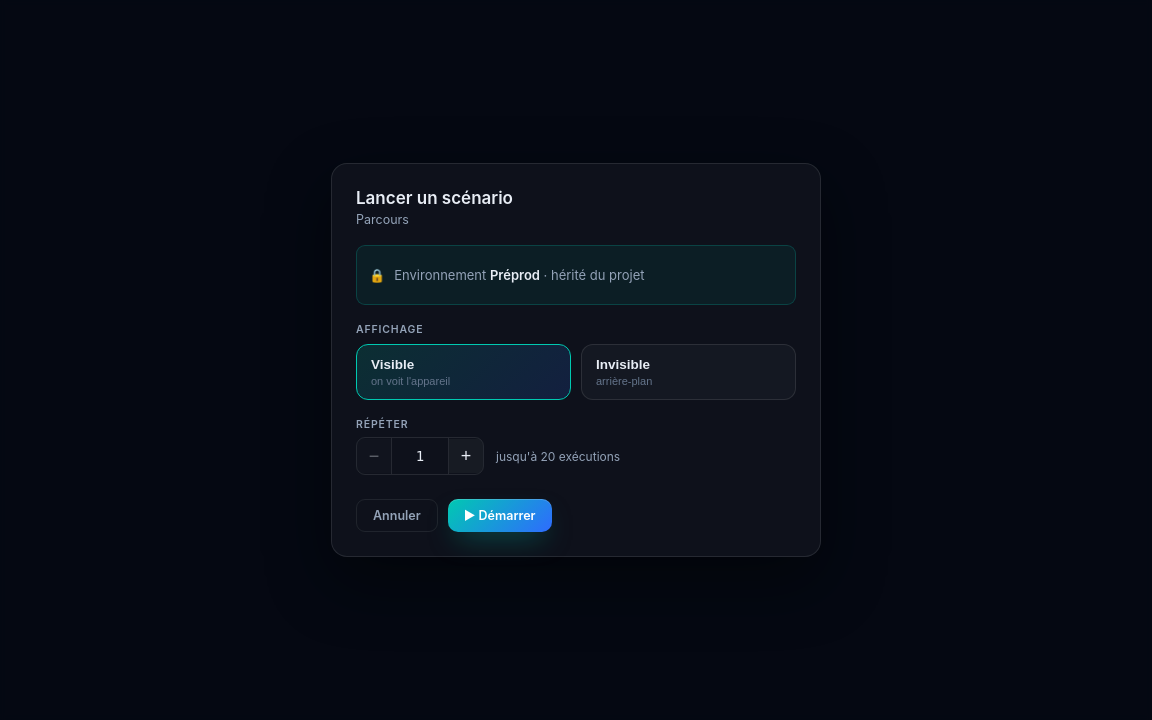
Test: RunOptionsModal › borne le nombre de lancements à 20 au maximum
Replace the text in the number field named "Nombre de lancements" with "99" at point(420, 456), box [391,438,449,474]
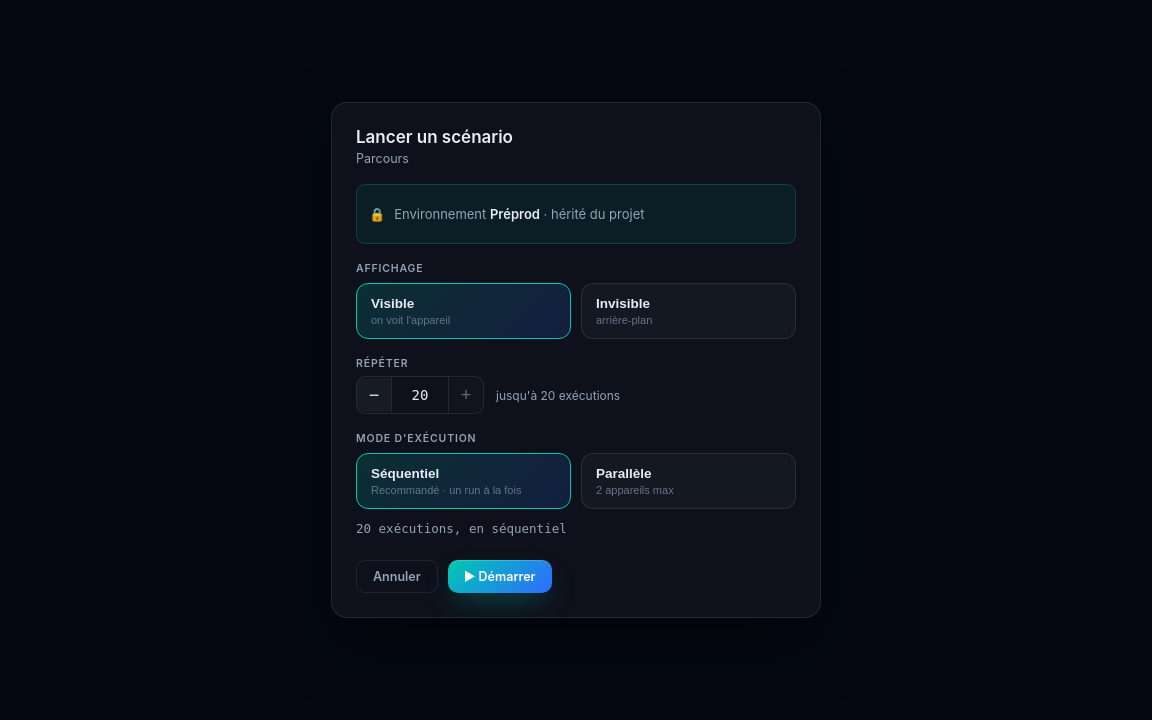
Check: the number field named "Nombre de lancements" holds "20", box [391,377,449,413]
Check: the button named "Plus" is disabled, box [449,378,483,412]
